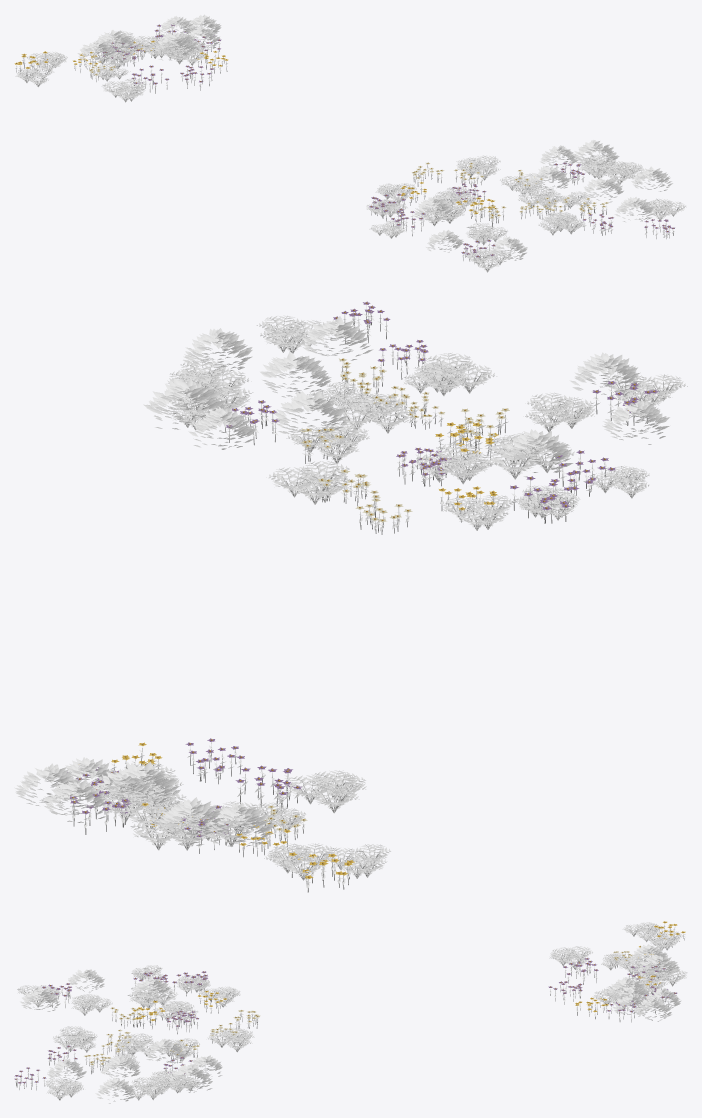
File: SM_NW_Nature_2_0_Flora.fbx
3 renders of one model, top to bottom at view 1: azimuth 30°, elevation 25°; view 2: azimuth 150°, elevation 25°; view 3: azimuth 270°, elevation 25°, orthographic. The views are drawn at different scales.
Parts seen in each view (by area): view 1: SM_NW_Nature_2_0_Flora; view 2: SM_NW_Nature_2_0_Flora; view 3: SM_NW_Nature_2_0_Flora.
Part boxes in pixels (bbox=[...]): SM_NW_Nature_2_0_Flora: bbox=[14, 14, 686, 272]; SM_NW_Nature_2_0_Flora: bbox=[14, 301, 687, 892]; SM_NW_Nature_2_0_Flora: bbox=[14, 921, 686, 1103].
Bounding box in the file's own units: 1793 × 2783 × 148.
